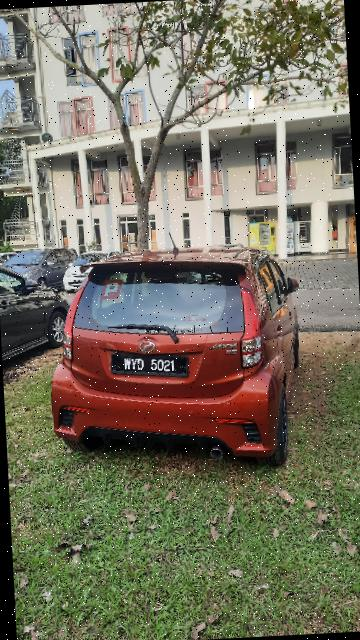License_Plate: (106, 349, 194, 386)
car: (42, 242, 314, 481)
